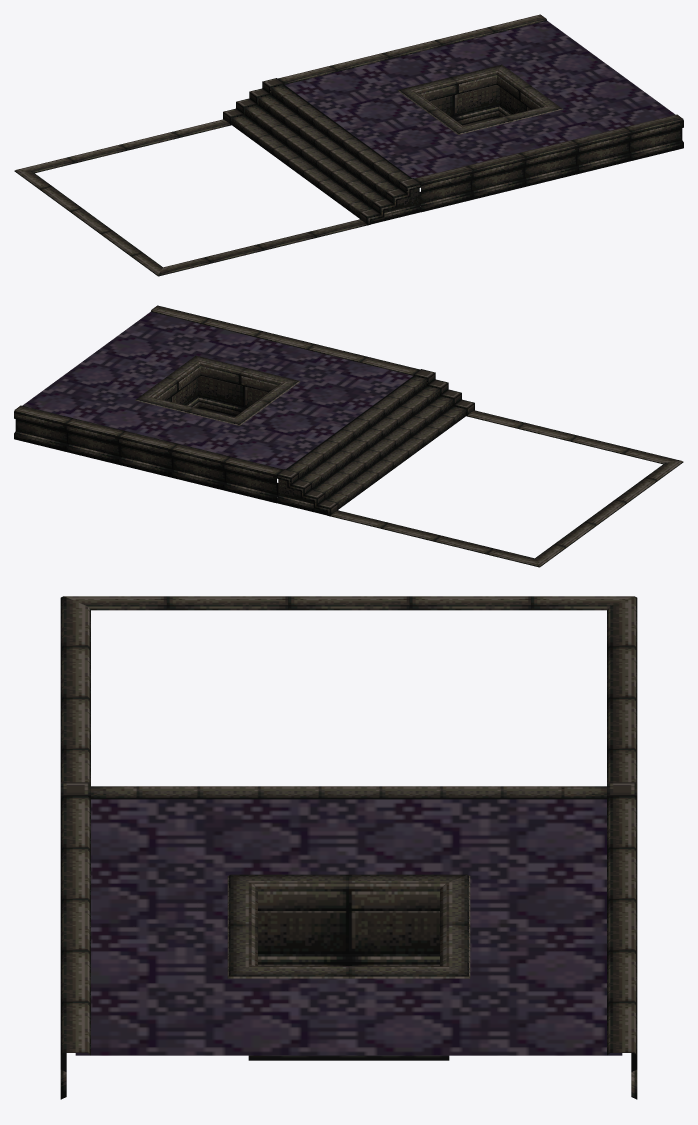
The model's file is EnvMdrMD_Atl_A_Altar.FBX.
3 renders of one model, top to bottom at view 1: azimuth 30°, elevation 25°; view 2: azimuth 150°, elevation 25°; view 3: azimuth 270°, elevation 25°, orthographic. The views are drawn at different scales.
Parts seen in each view (by area): view 1: EnvMdrMD_Atl_A_Altar; view 2: EnvMdrMD_Atl_A_Altar; view 3: EnvMdrMD_Atl_A_Altar.
Boxes of the visible parts, x1,y1,x2,y2 form: EnvMdrMD_Atl_A_Altar: (14, 14, 683, 276); EnvMdrMD_Atl_A_Altar: (14, 305, 683, 567); EnvMdrMD_Atl_A_Altar: (60, 596, 637, 1099).
Size of the model in its own units: 2000 by 170 by 950.
